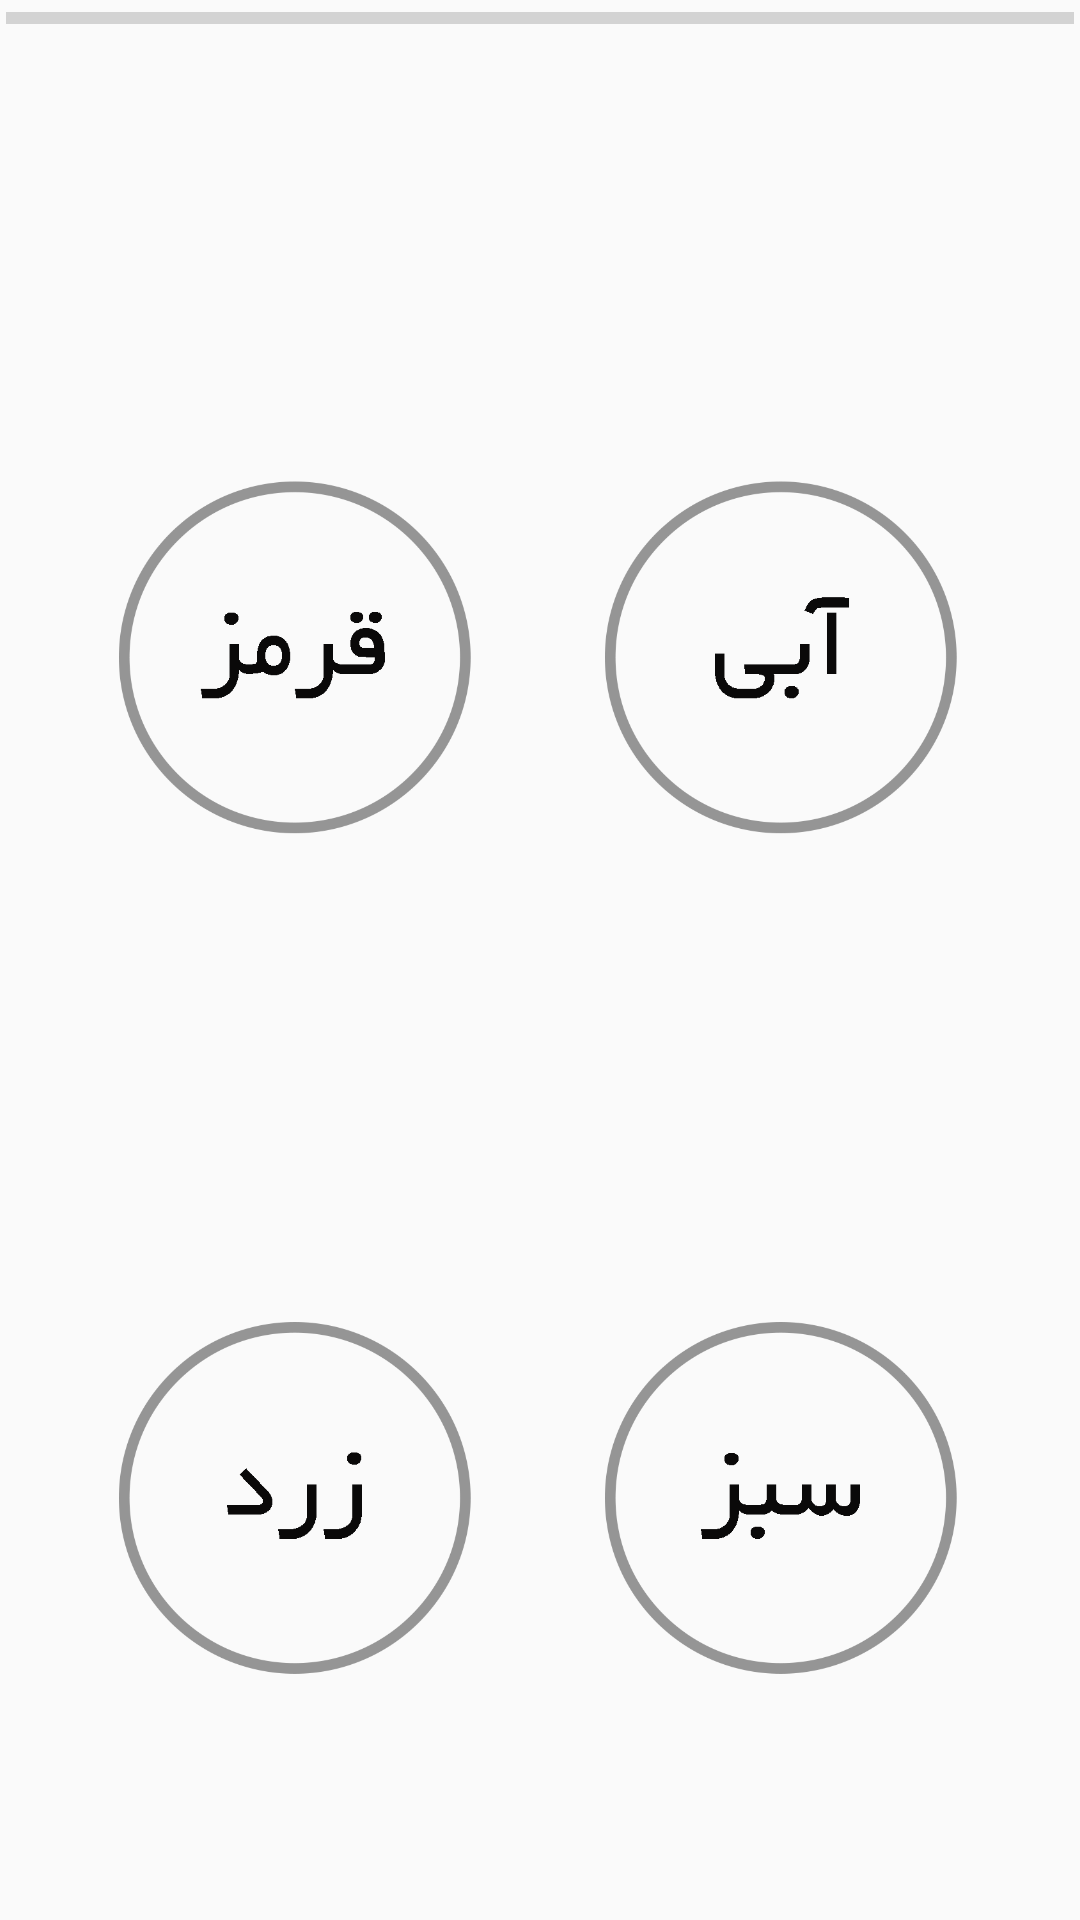

Point at icon controls on the screen. Image size 1080x1920, points as point (x, y).
circle: point (295, 657), point (781, 657), point (781, 1498)
